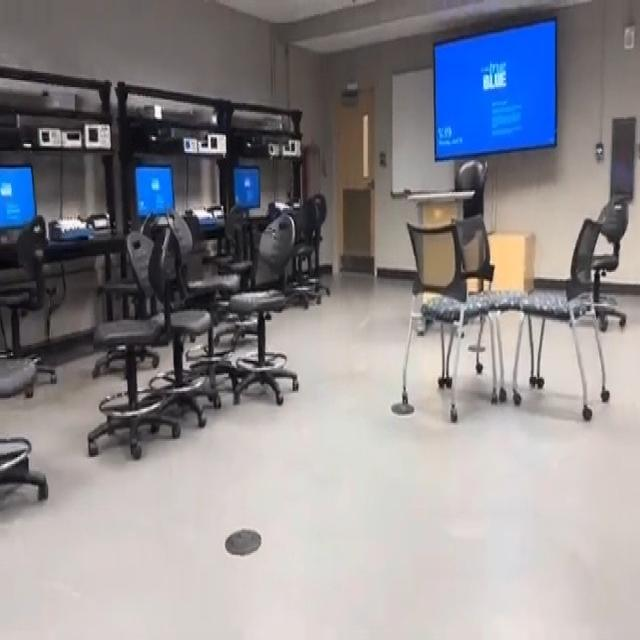drone: (251, 212, 276, 240)
